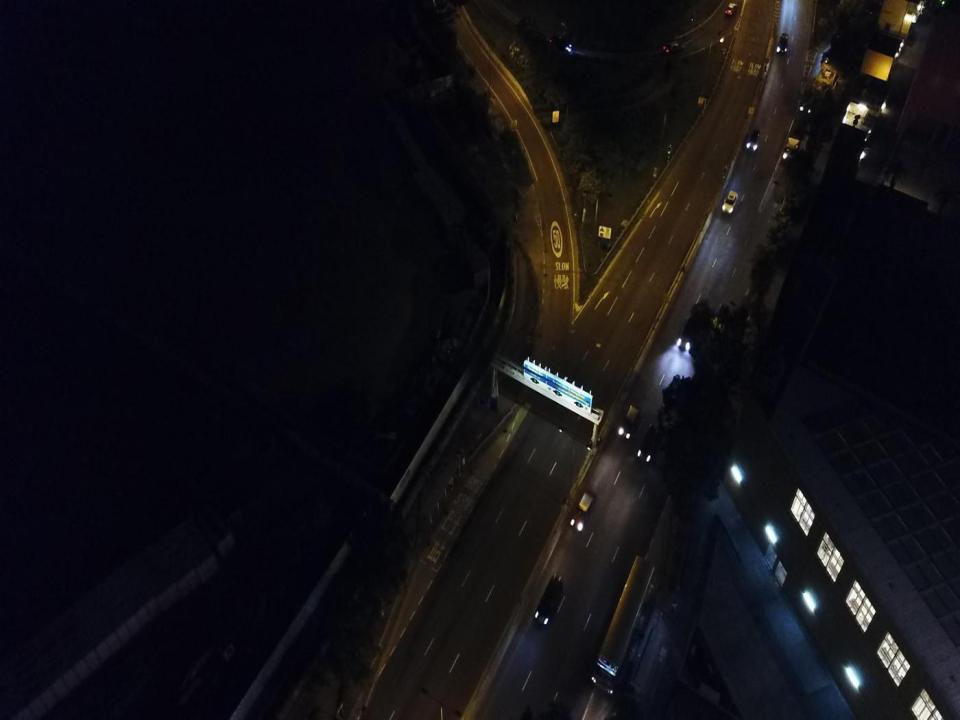bus: (590, 554, 657, 697)
car: (532, 568, 565, 628), (636, 421, 662, 467), (569, 490, 596, 532), (677, 312, 699, 352), (617, 404, 640, 441), (720, 188, 739, 216), (800, 83, 816, 116), (548, 35, 572, 53), (746, 127, 760, 154), (663, 39, 684, 55), (776, 31, 789, 56), (725, 1, 736, 15)
truck: (782, 115, 803, 164)
